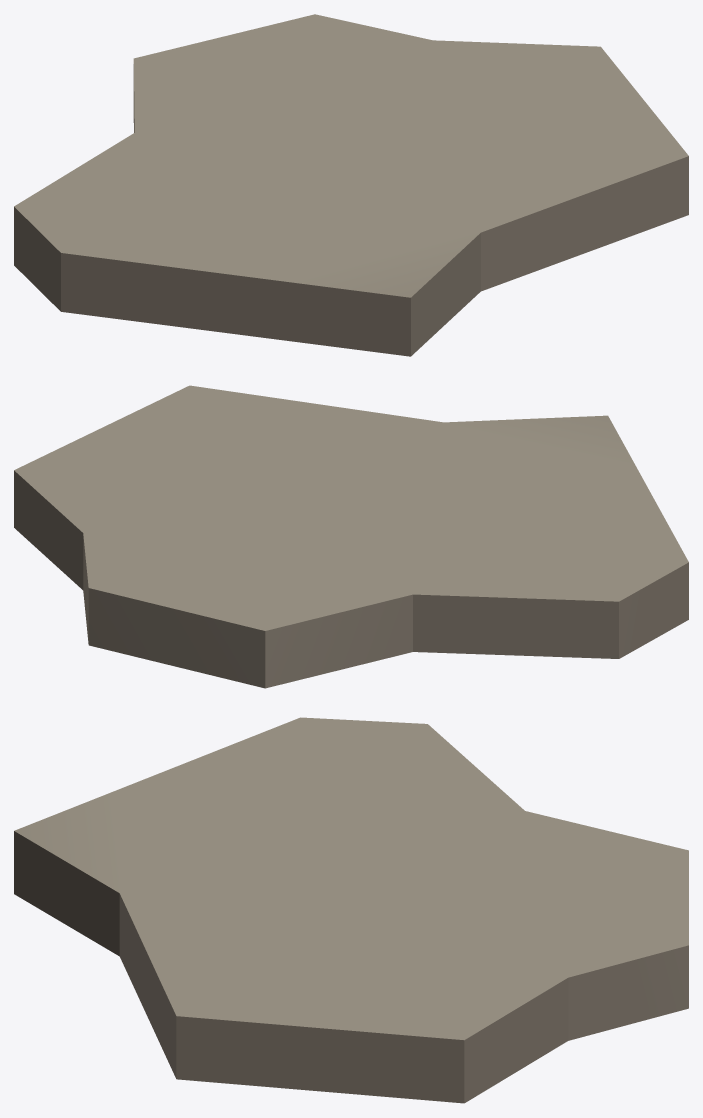
The model's file is SM_Env_Ice_02.fbx.
3 views of the same model, one above another, from view 1: azimuth 30°, elevation 25°; view 2: azimuth 150°, elevation 25°; view 3: azimuth 270°, elevation 25° (orthographic). The views are drawn at different scales.
Visible parts, largest first — view 1: SM_Env_Ice_02; view 2: SM_Env_Ice_02; view 3: SM_Env_Ice_02.
Part boxes in pixels (left/top/right/bottom): SM_Env_Ice_02: left=14, top=14, right=688, bottom=356; SM_Env_Ice_02: left=14, top=385, right=688, bottom=688; SM_Env_Ice_02: left=14, top=717, right=688, bottom=1103.
Size of the model in its own units: 0.0194 by 0.00178 by 0.0172.
1 material, 1 textured.
